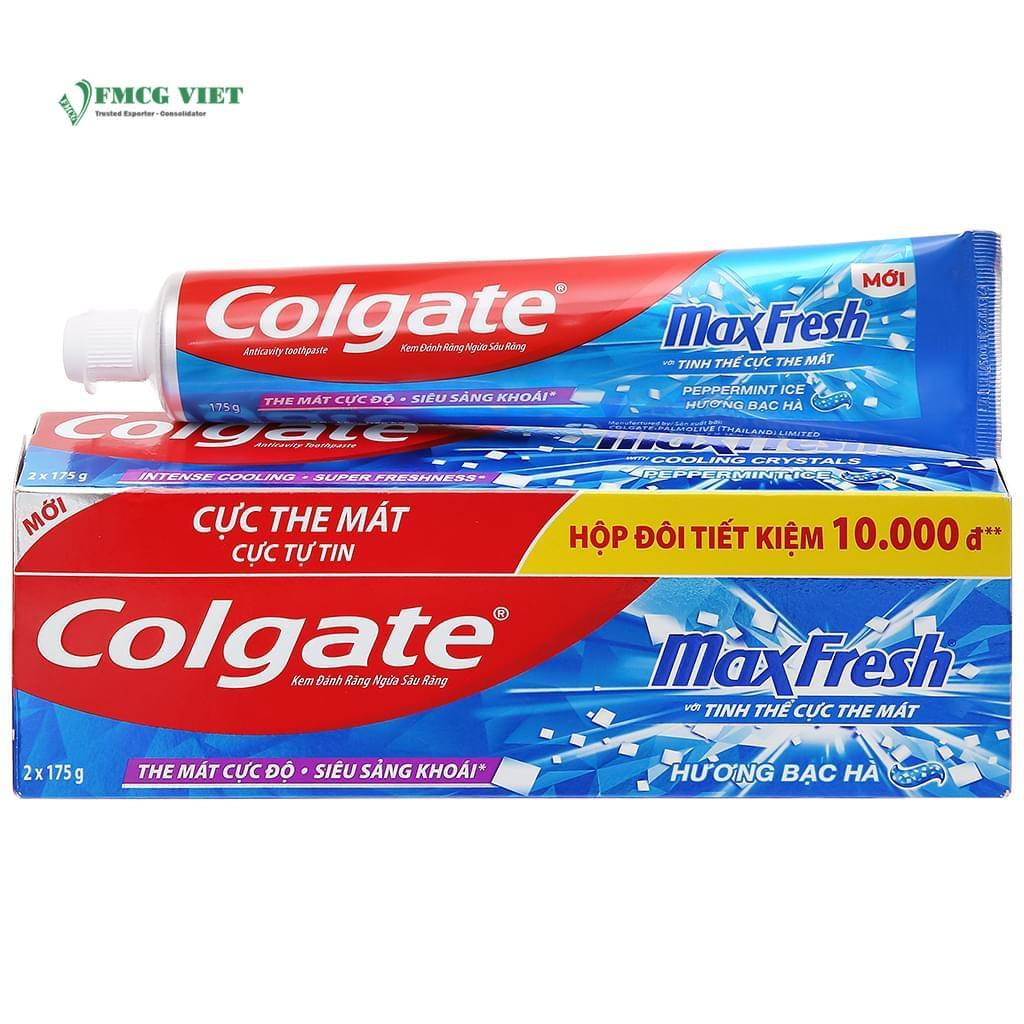toothpaste: (7, 405, 1019, 807), (39, 245, 1018, 468)
